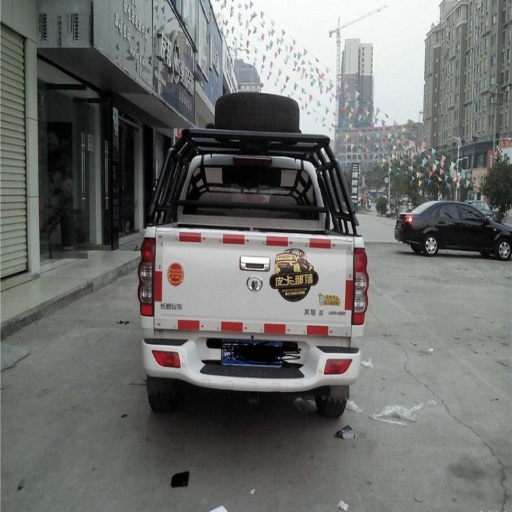back_bumper: (143, 317, 361, 387)
trunk: (142, 217, 352, 346)
